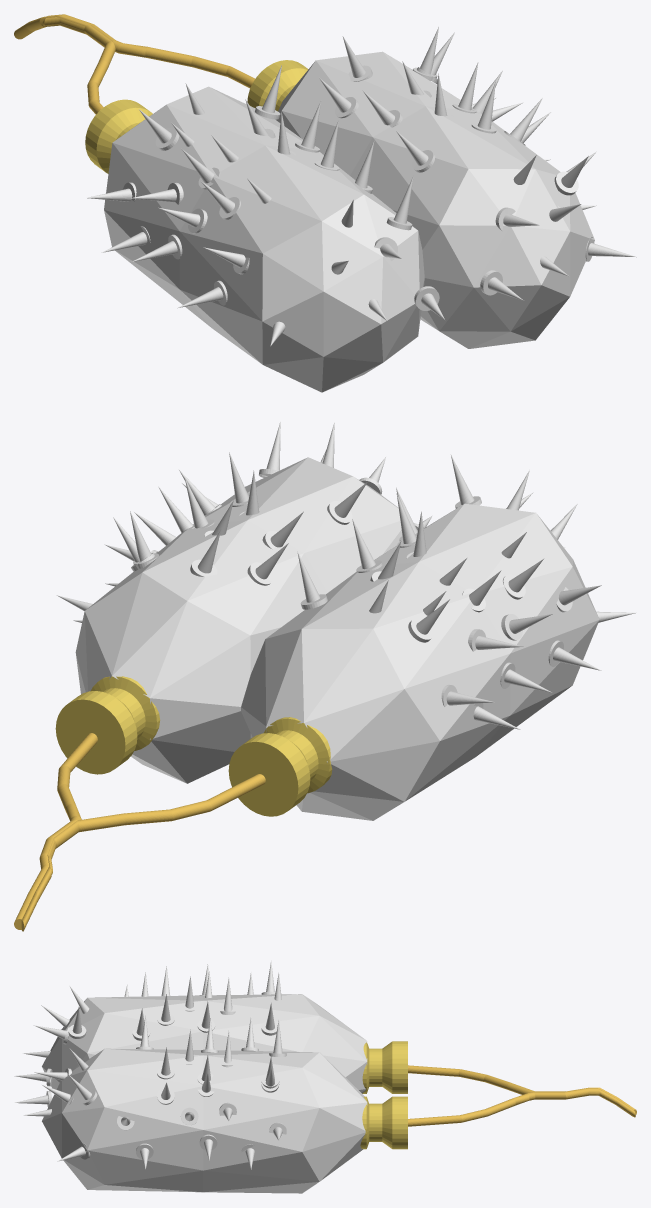
File: Bomb_New.fbx
The picture shows the model from 3 angles, top to bottom: view 1: azimuth 30°, elevation 25°; view 2: azimuth 150°, elevation 25°; view 3: azimuth 270°, elevation 25°; orthographic projection. The views are drawn at different scales.
Parts seen in each view (by area): view 1: Cylinder.021; view 2: Cylinder.021; view 3: Cylinder.021.
Part boxes in pixels (x1,y1,x2,y2): Cylinder.021: [14, 14, 636, 392]; Cylinder.021: [14, 421, 636, 931]; Cylinder.021: [14, 961, 636, 1193].
Bounding box in the file's own units: 313 × 162 × 577.
